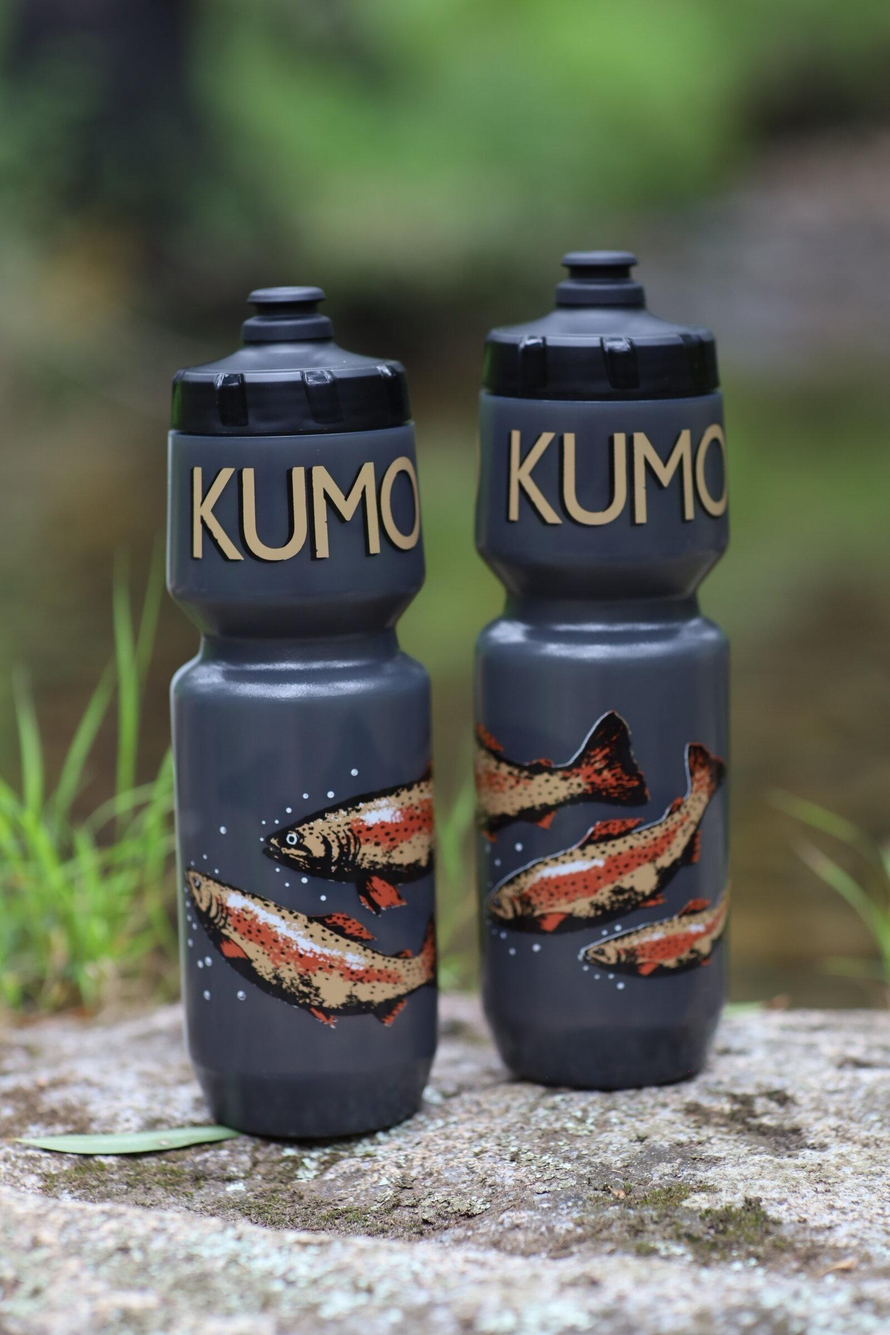gym bottle: (160, 279, 444, 1146), (465, 249, 739, 1093)
